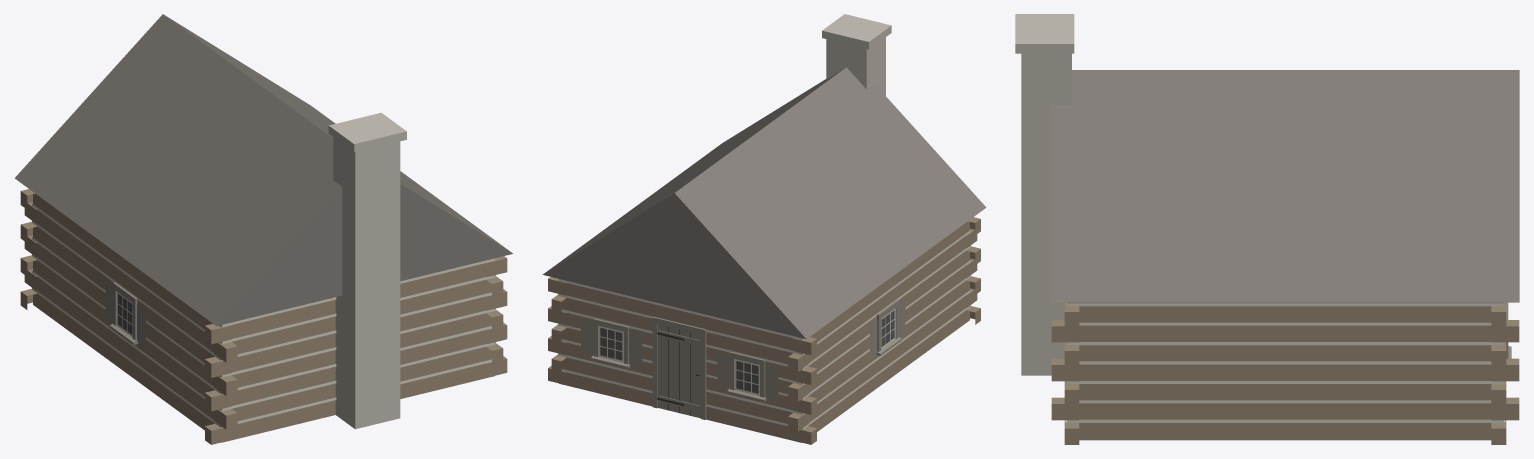
The model's file is recon_1835_blk_lake_market_d1_05__inferred_1835.glb.
3 renders of one model, left to right at view 1: azimuth 30°, elevation 25°; view 2: azimuth 150°, elevation 25°; view 3: azimuth 270°, elevation 25°, orthographic. The views are drawn at different scales.
Parts seen in each view (by area): view 1: recon_1835_blk_lake_market_d1_05__inferred_1835; view 2: recon_1835_blk_lake_market_d1_05__inferred_1835; view 3: recon_1835_blk_lake_market_d1_05__inferred_1835.
Boxes of the visible parts, x1,y1,x2,y2 form: recon_1835_blk_lake_market_d1_05__inferred_1835: (14,14,512,444); recon_1835_blk_lake_market_d1_05__inferred_1835: (542,14,986,444); recon_1835_blk_lake_market_d1_05__inferred_1835: (1015,14,1519,444).
Size of the model in its own units: 6.3 by 5.84 by 8.
